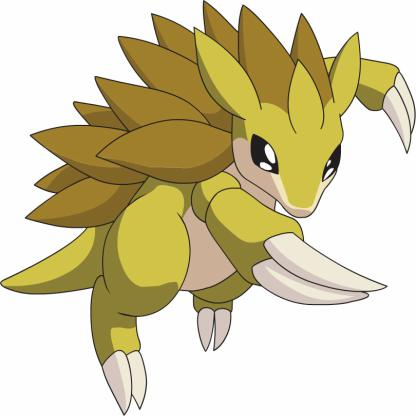Sandslash: (5, 1, 416, 416)
